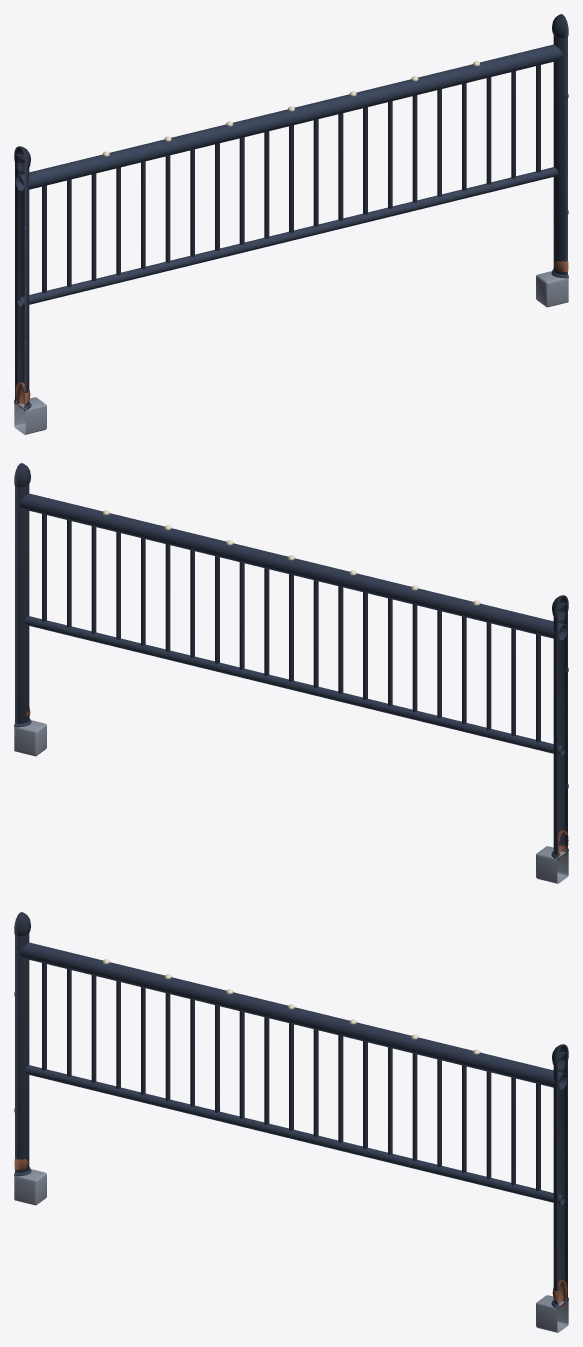
The model's file is trumua-promenade-railing.glb.
The picture shows the model from 3 angles, top to bottom: view 1: azimuth 30°, elevation 25°; view 2: azimuth 150°, elevation 25°; view 3: azimuth 330°, elevation 25°; orthographic projection.
Visible parts, largest first — view 1: trumua-promenade-railing; view 2: trumua-promenade-railing; view 3: trumua-promenade-railing.
Part boxes in pixels (x1,y1,x2,y2): trumua-promenade-railing: [14, 14, 568, 434]; trumua-promenade-railing: [14, 463, 568, 883]; trumua-promenade-railing: [14, 912, 568, 1332].
Bounding box in the file's own units: 2.2 × 1.1 × 0.0825.
Materials: 1 (1 with a texture image).
